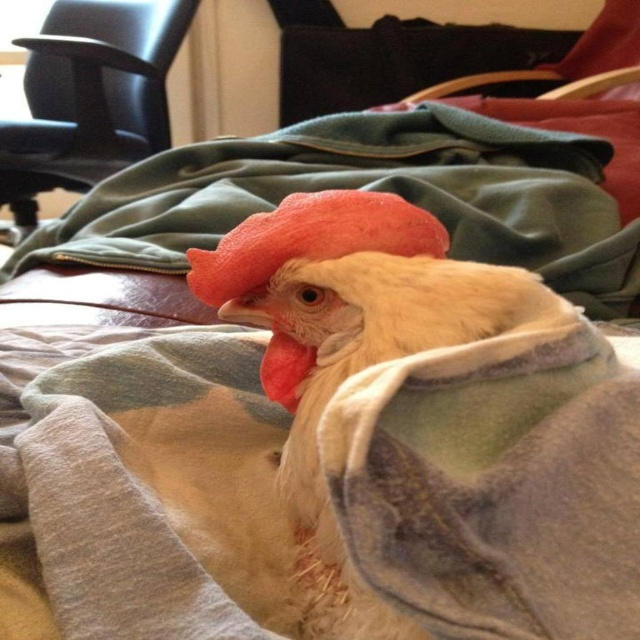Chicken: (178, 191, 639, 639)
